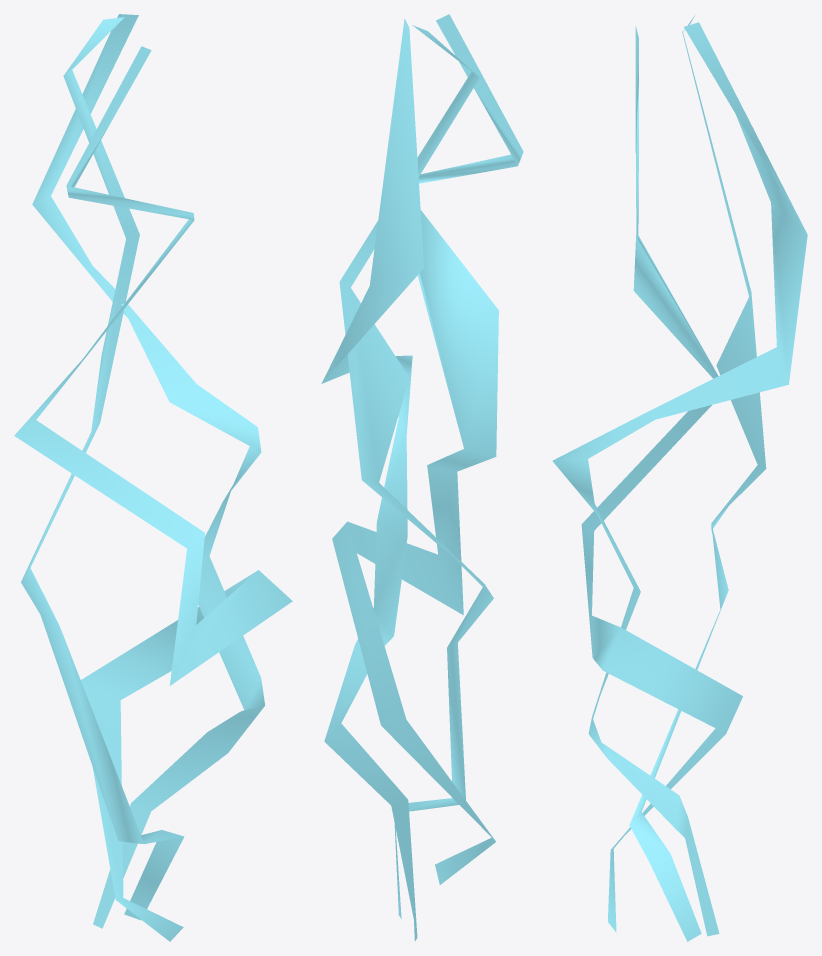
Rendered from electricidad_pasillo-005.gltf.
3 views of the same model, side by side, from view 1: azimuth 30°, elevation 25°; view 2: azimuth 150°, elevation 25°; view 3: azimuth 270°, elevation 25° (orthographic).
Parts seen in each view (by area): view 1: Electr-Pasillo-f.005; view 2: Electr-Pasillo-f.005; view 3: Electr-Pasillo-f.005.
Boxes of the visible parts, left/top/right/bottom form: Electr-Pasillo-f.005: left=14, top=14, right=292, bottom=941; Electr-Pasillo-f.005: left=321, top=14, right=523, bottom=941; Electr-Pasillo-f.005: left=552, top=16, right=807, bottom=941.
Size of the model in its own units: 1.26 by 4.94 by 1.24.
1 material, 1 textured.
